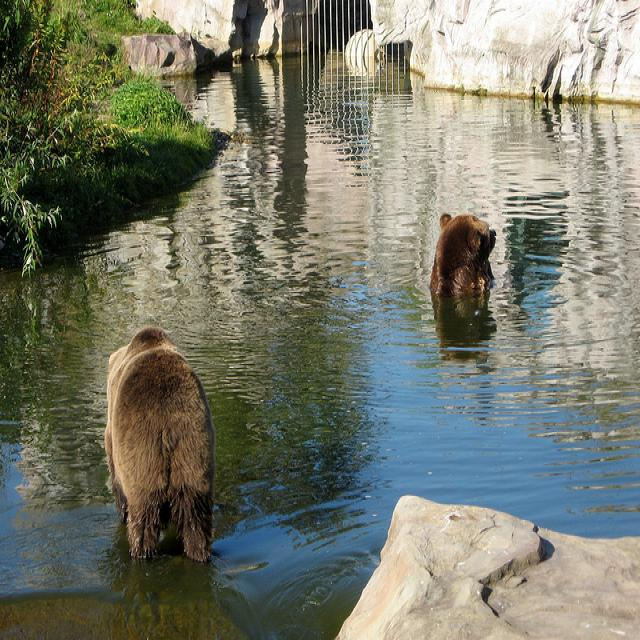Bear: (99, 322, 222, 562), (425, 197, 500, 304)
